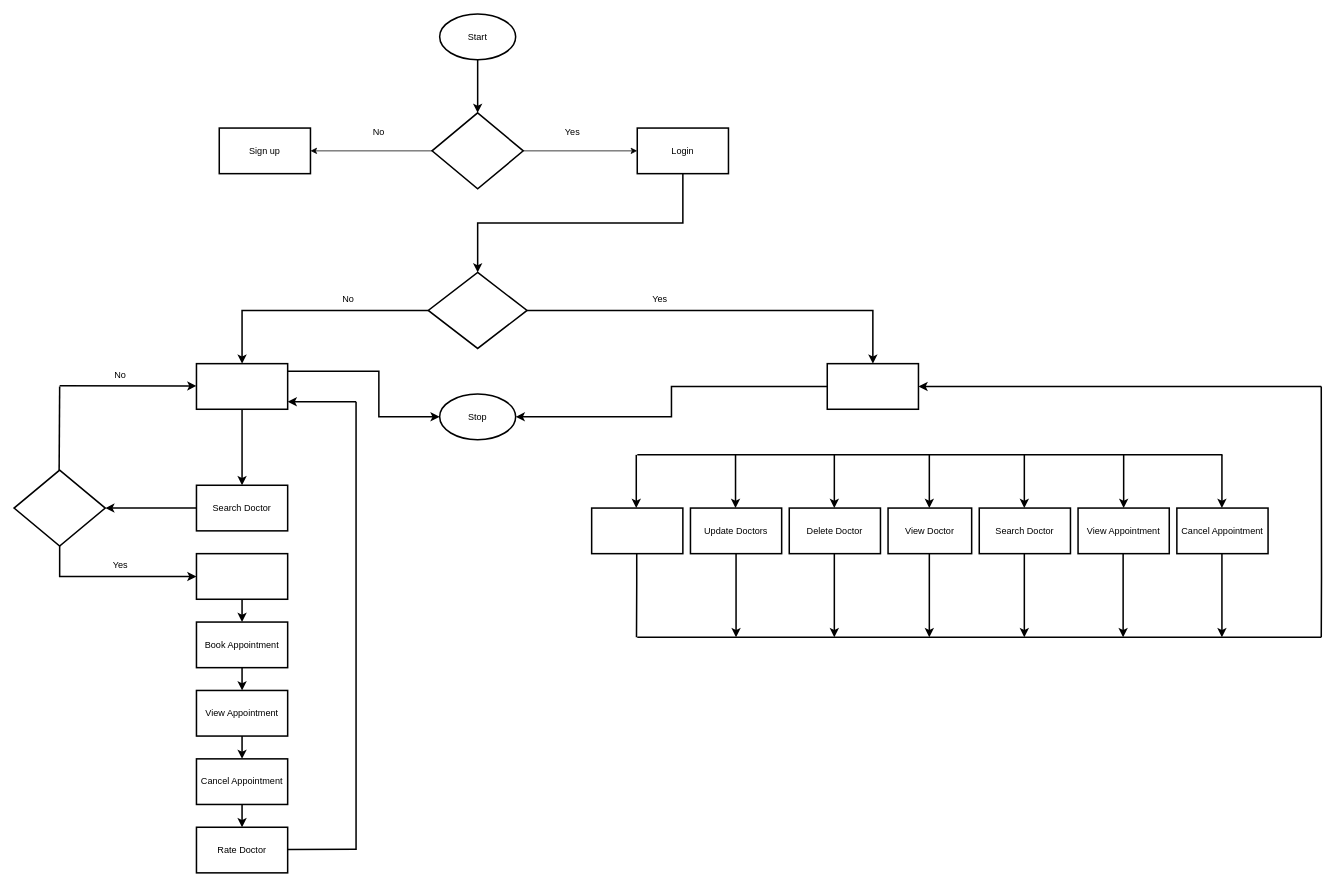
Some shapes in this 1341 by 886 pixel diagram are drawn without their labels. The shapes that lost their labels are listed below. From the top down, each one's box as (x1, y1, x2, y2) in pixels, then its label:
(431, 112, 524, 189): has an account
(427, 271, 527, 349): Is Admin
(195, 363, 288, 410): User Home
(826, 363, 919, 410): Admin Home
(13, 469, 106, 546): Is Present
(591, 507, 683, 554): Add Doctors
(195, 553, 288, 600): View Doctor Details
